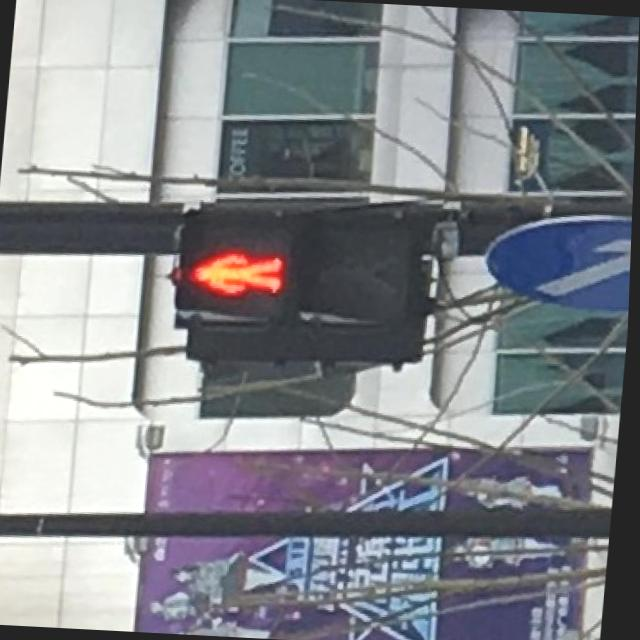red_light: (180, 228, 292, 322)
